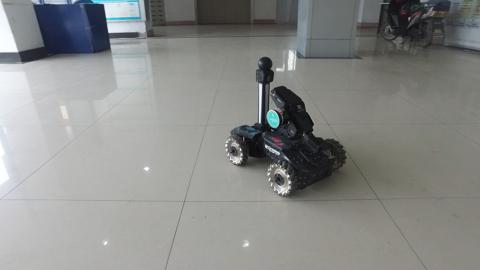chariot: (224, 55, 347, 197)
